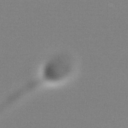normal: (1, 77, 44, 114)
